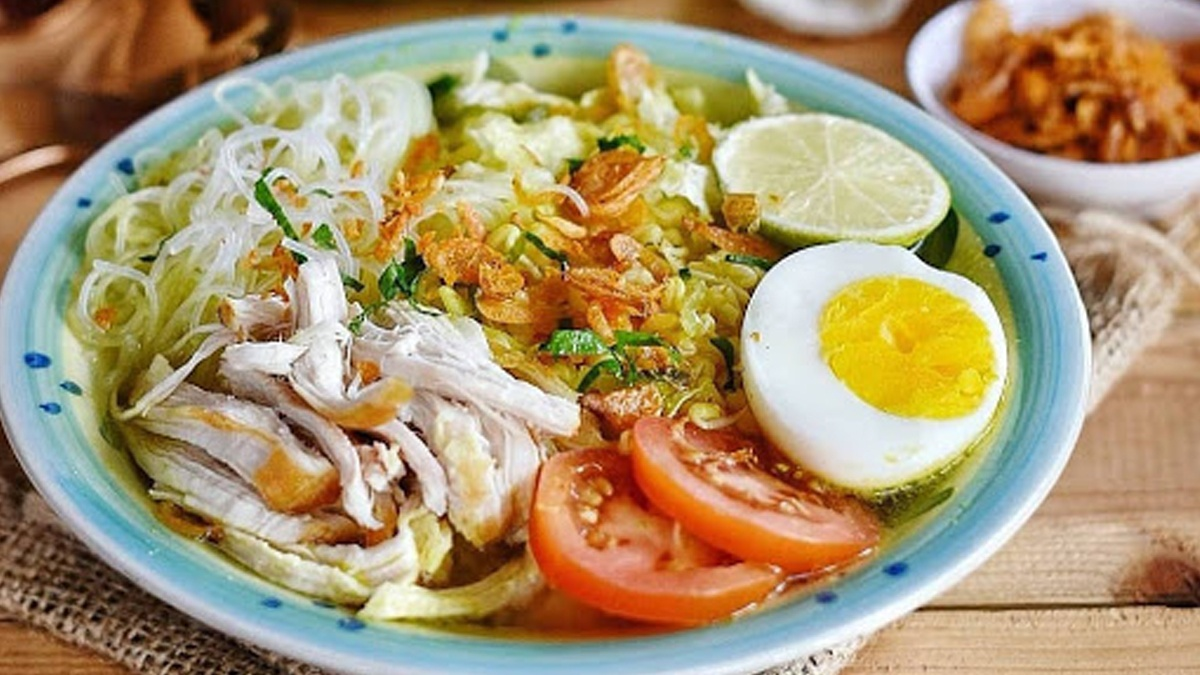soto: (55, 20, 1047, 620)
